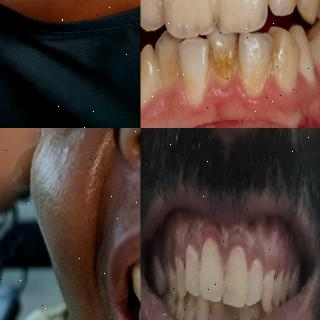Gum Swelling: (164, 75, 253, 118)
maligned: (179, 33, 208, 103), (162, 0, 212, 40), (238, 29, 266, 99), (210, 21, 238, 83), (270, 33, 298, 93), (154, 35, 180, 95), (140, 47, 160, 123), (219, 0, 269, 30)
plaque: (180, 238, 266, 288), (222, 0, 268, 10)
stains: (180, 53, 208, 107), (238, 47, 268, 97), (270, 40, 298, 86), (212, 37, 237, 88), (157, 53, 181, 94)
